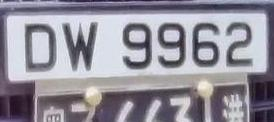2: (223, 17, 259, 73)
6: (188, 17, 223, 75)
9: (117, 16, 156, 78), (153, 17, 190, 76)
D: (19, 17, 64, 81)
W: (59, 16, 107, 80)
